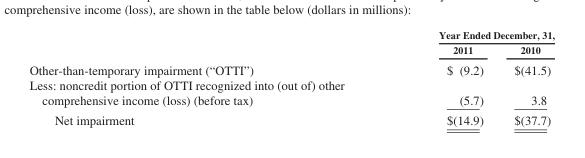table: (28, 28, 553, 126)
table column: (28, 28, 390, 126), (390, 28, 498, 126), (498, 28, 553, 126)
table column header: (28, 28, 553, 58)
table row: (28, 76, 553, 109), (28, 58, 553, 76), (28, 109, 553, 126), (28, 42, 553, 58), (28, 28, 553, 42)
table spanning cell: (390, 28, 553, 42)
